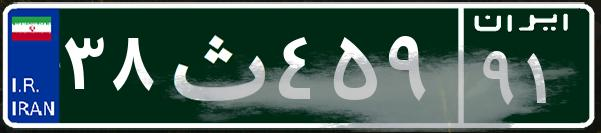1: (525, 38, 570, 115)
3: (57, 26, 110, 107)
4: (273, 28, 330, 110)
5: (330, 28, 385, 110)
8: (110, 28, 158, 105)
9: (385, 28, 445, 110), (475, 38, 525, 113)
ث: (158, 15, 273, 115)
